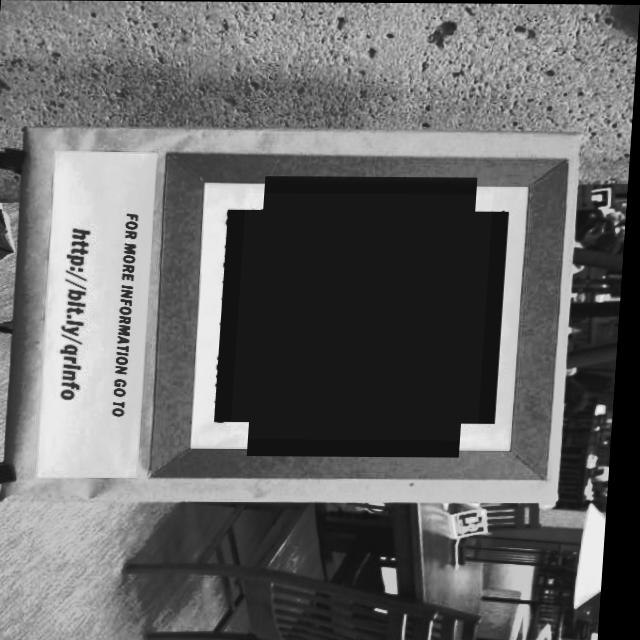qr_code: (235, 193, 495, 440)
